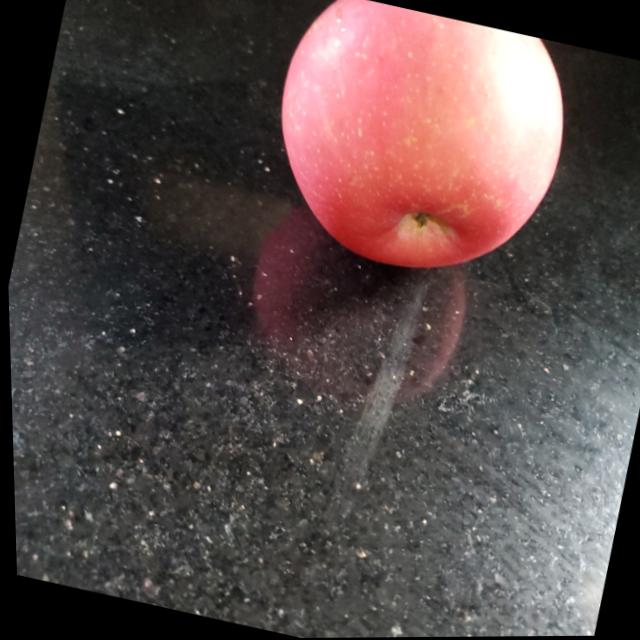apple: (248, 0, 589, 298)
